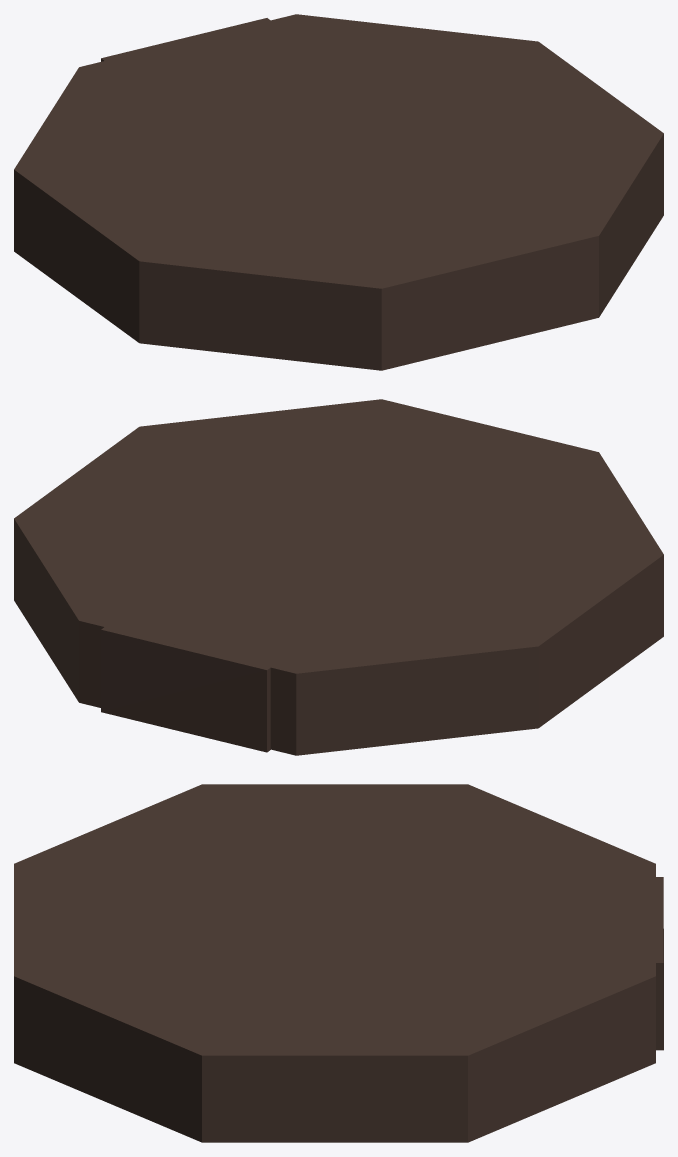
File: Itr_Trashcan4_Cap_06.FBX
The picture shows the model from 3 angles, top to bottom: view 1: azimuth 30°, elevation 25°; view 2: azimuth 150°, elevation 25°; view 3: azimuth 270°, elevation 25°; orthographic projection. The views are drawn at different scales.
Parts seen in each view (by area): view 1: Itr_Trashcan4_Cap_06; view 2: Itr_Trashcan4_Cap_06; view 3: Itr_Trashcan4_Cap_06.
Part boxes in pixels (x1,y1,x2,y2): Itr_Trashcan4_Cap_06: (14, 14, 663, 370); Itr_Trashcan4_Cap_06: (14, 399, 663, 755); Itr_Trashcan4_Cap_06: (14, 784, 663, 1142).
Bounding box in the file's own units: 12.01 × 1.8 × 12.15.
